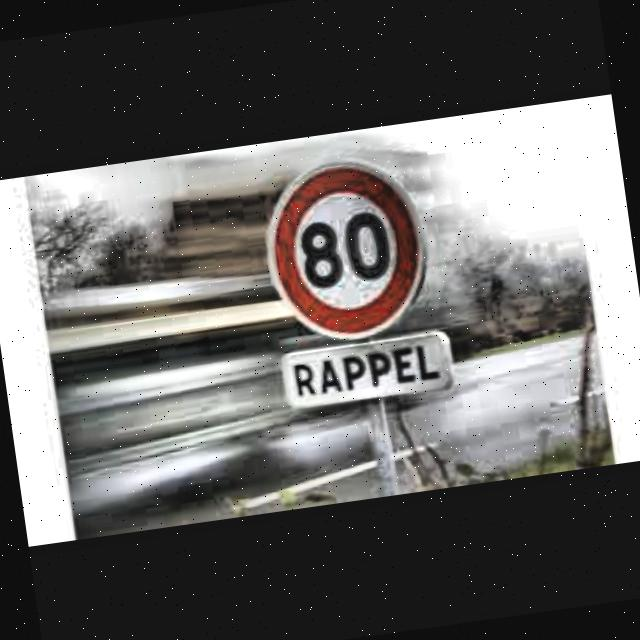speed_80: (260, 154, 437, 345)
